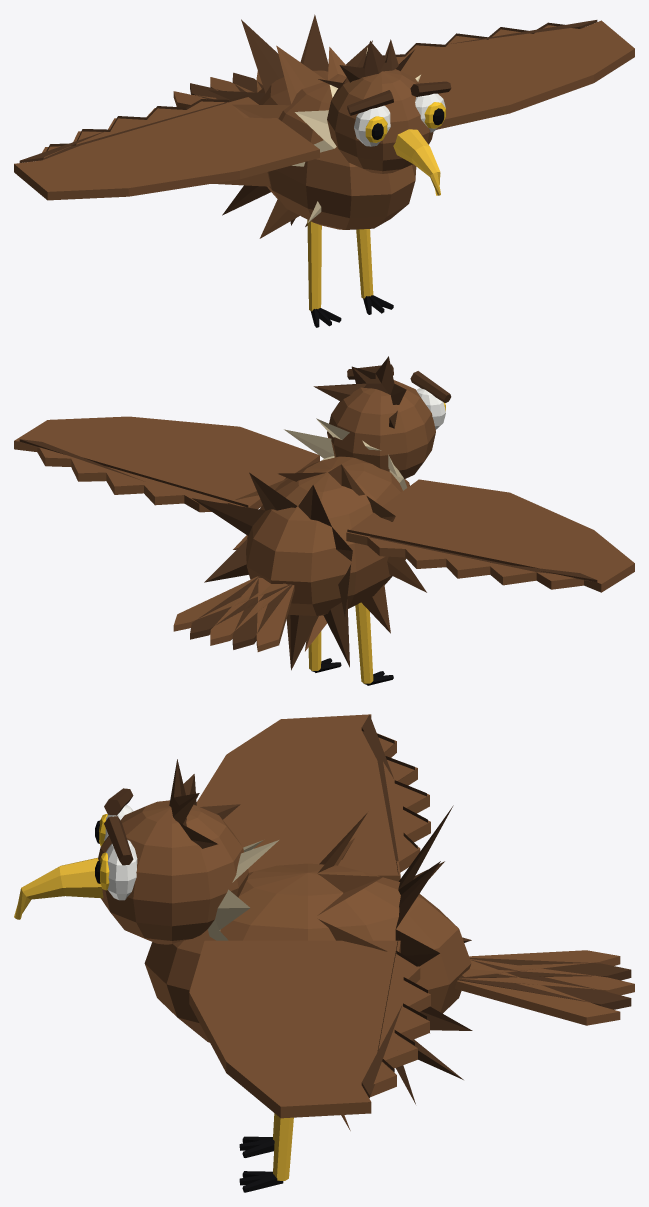
The model's file is hawk.glb.
The picture shows the model from 3 angles, top to bottom: view 1: azimuth 30°, elevation 25°; view 2: azimuth 150°, elevation 25°; view 3: azimuth 270°, elevation 25°; orthographic projection. The views are drawn at different scales.
Parts seen in each view (by area): view 1: hawk_body, hawk_wing_r, hawk_wing_l; view 2: hawk_body, hawk_wing_r, hawk_wing_l; view 3: hawk_body, hawk_wing_l, hawk_wing_r.
Boxes of the visible parts, x1,y1,x2,y2 form: hawk_body: [173, 14, 451, 327]; hawk_wing_r: [14, 94, 319, 200]; hawk_wing_l: [361, 20, 634, 129]; hawk_body: [173, 356, 451, 685]; hawk_wing_r: [346, 479, 634, 592]; hawk_wing_l: [14, 416, 319, 512]; hawk_body: [14, 759, 634, 1192]; hawk_wing_l: [189, 938, 430, 1118]; hawk_wing_r: [196, 714, 430, 881].
Bounding box in the file's own units: 1.72 × 0.8335 × 1.16.
